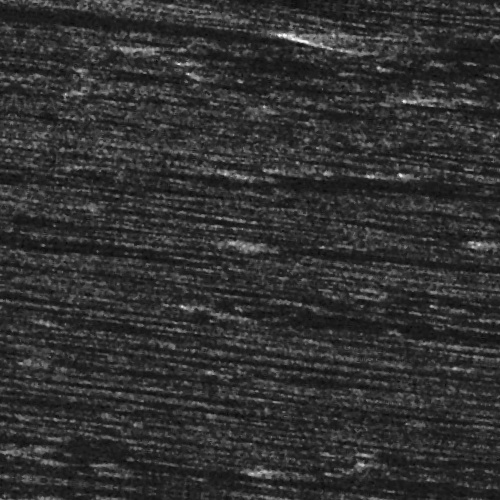object: (254, 20, 389, 37), (336, 78, 481, 89), (0, 466, 98, 477), (253, 161, 358, 170), (188, 169, 293, 178), (226, 238, 309, 247), (307, 461, 348, 474), (166, 307, 229, 312), (476, 285, 500, 298), (41, 176, 82, 183), (474, 212, 500, 223), (0, 262, 17, 273), (0, 474, 11, 487), (0, 482, 11, 495), (116, 53, 127, 62)
shadow: (46, 466, 500, 477), (321, 20, 500, 37), (0, 474, 211, 487), (0, 482, 211, 495), (241, 169, 500, 178), (327, 461, 500, 474), (268, 238, 500, 247), (0, 452, 169, 463), (62, 176, 304, 183), (0, 262, 145, 273), (306, 161, 477, 170), (197, 307, 500, 312), (122, 53, 282, 62), (0, 200, 124, 211), (0, 195, 134, 204), (0, 255, 225, 260), (409, 78, 500, 89), (0, 416, 49, 425)
